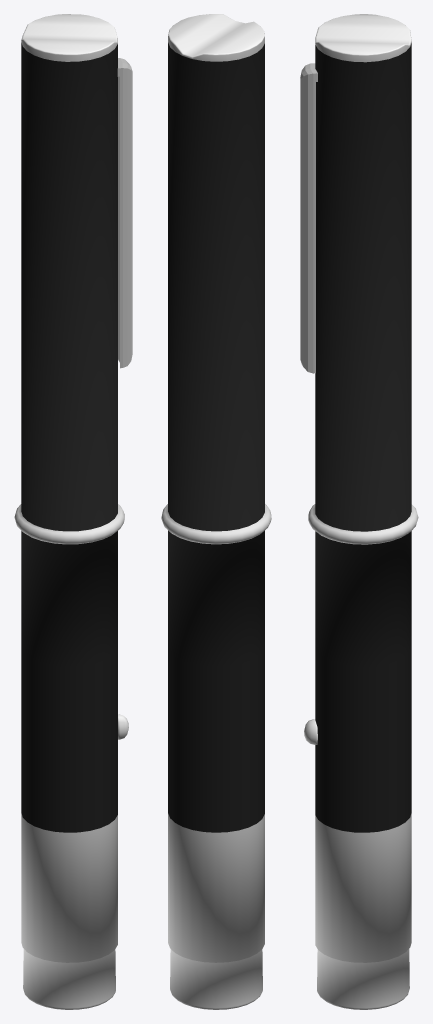
Rendered from laser.fbx.
3 views of the same model, side by side, from view 1: azimuth 90°, elevation 25°; view 2: azimuth 150°, elevation 25°; view 3: azimuth 270°, elevation 25° (orthographic).
Parts seen in each view (by area): view 1: Cylinder.003; view 2: Cylinder.003; view 3: Cylinder.003.
Boxes of the visible parts, <box> form: Cylinder.003: <box>14,14,132,1009</box>; Cylinder.003: <box>161,14,271,1009</box>; Cylinder.003: <box>300,14,418,1009</box>.
Bounding box in the file's own units: 56.69 × 543 × 60.68.
Materials: 1 (1 with a texture image).
